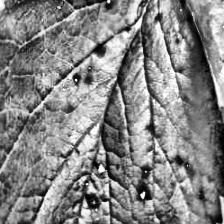Leaf Spot: (0, 0, 224, 224), (171, 0, 224, 224)
